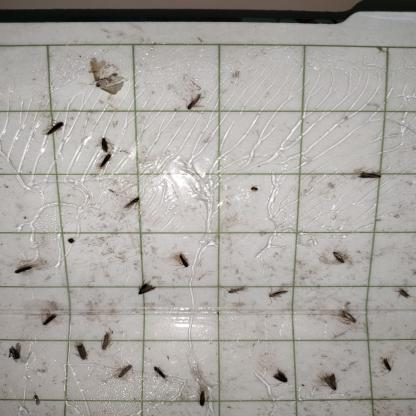prays_oleae: (85, 58, 127, 101), (353, 158, 387, 192), (130, 274, 158, 314), (338, 297, 364, 339), (174, 238, 198, 280), (266, 280, 294, 312), (184, 82, 206, 122), (325, 239, 348, 276), (6, 258, 38, 282), (112, 358, 136, 390), (4, 338, 24, 376), (71, 336, 93, 370), (370, 356, 402, 378), (392, 278, 415, 308), (118, 191, 142, 219), (40, 119, 66, 144), (266, 366, 294, 389), (220, 282, 252, 302), (150, 358, 170, 388), (97, 327, 115, 359), (325, 366, 342, 398), (42, 306, 60, 336), (96, 150, 112, 176), (194, 388, 206, 412), (66, 228, 78, 250), (252, 180, 260, 198)
